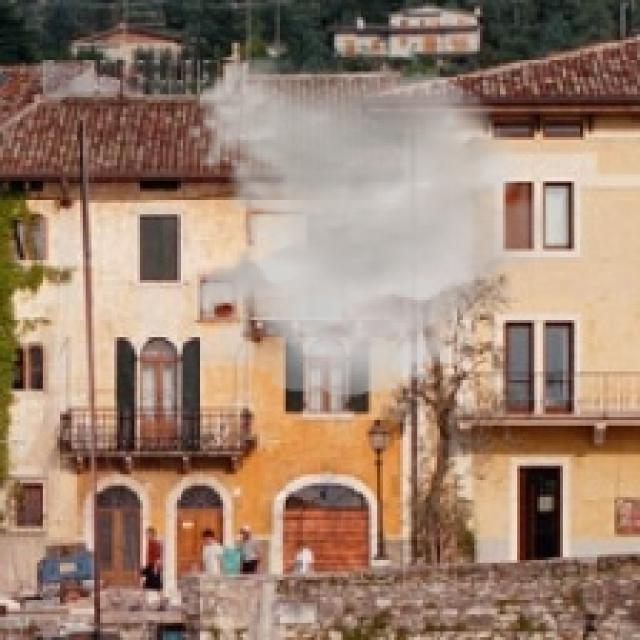smoke: (180, 54, 571, 397)
